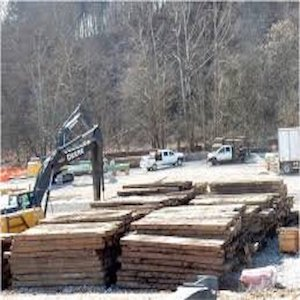combustible: (15, 181, 290, 288)
